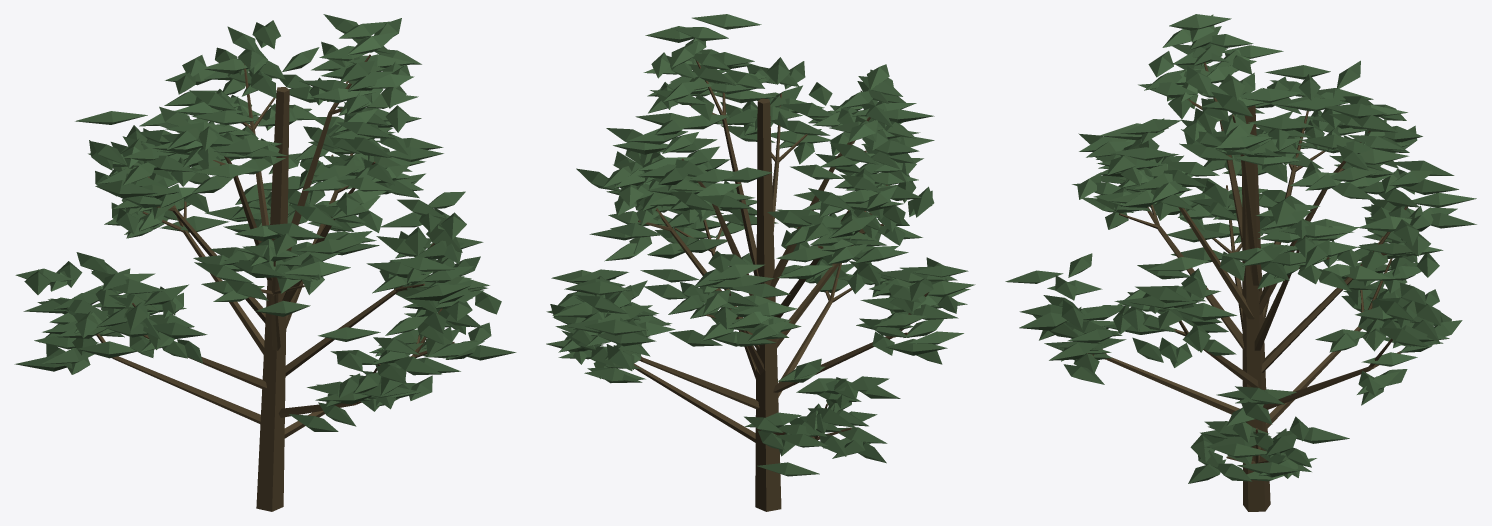
File: tree-close-2.glb
3 renders of one model, left to right at view 1: azimuth 30°, elevation 25°; view 2: azimuth 150°, elevation 25°; view 3: azimuth 270°, elevation 25°, orthographic. The views are drawn at different scales.
Parts seen in each view (by area): view 1: Branched crown.005; view 2: Branched crown.005; view 3: Branched crown.005.
Boxes of the visible parts, x1=… form: Branched crown.005: x1=14, y1=14, x2=516, y2=511; Branched crown.005: x1=546, y1=14, x2=975, y2=511; Branched crown.005: x1=1005, y1=14, x2=1476, y2=511.
Bounding box in the file's own units: 1.16 × 1.25 × 1.14.
